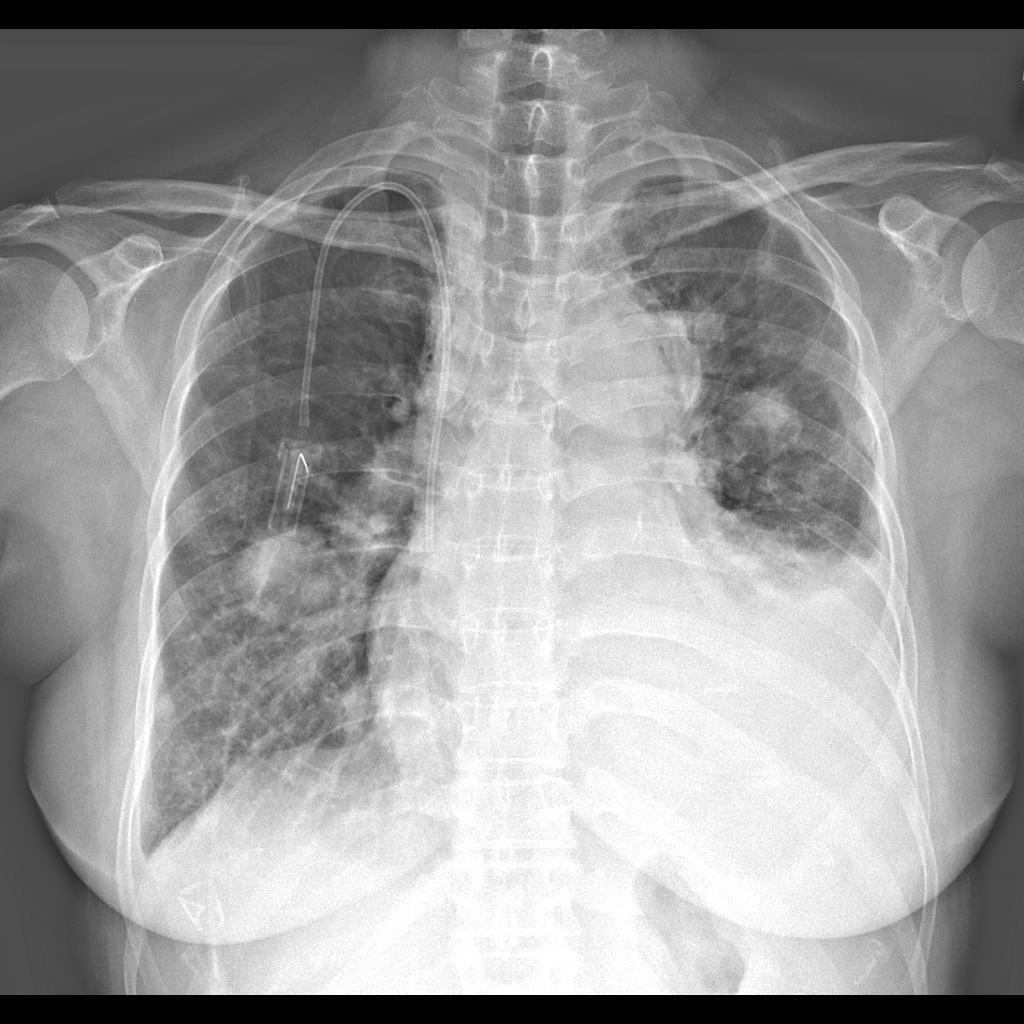Nodule: (235, 516, 336, 630), (730, 379, 818, 469), (677, 294, 736, 360)
